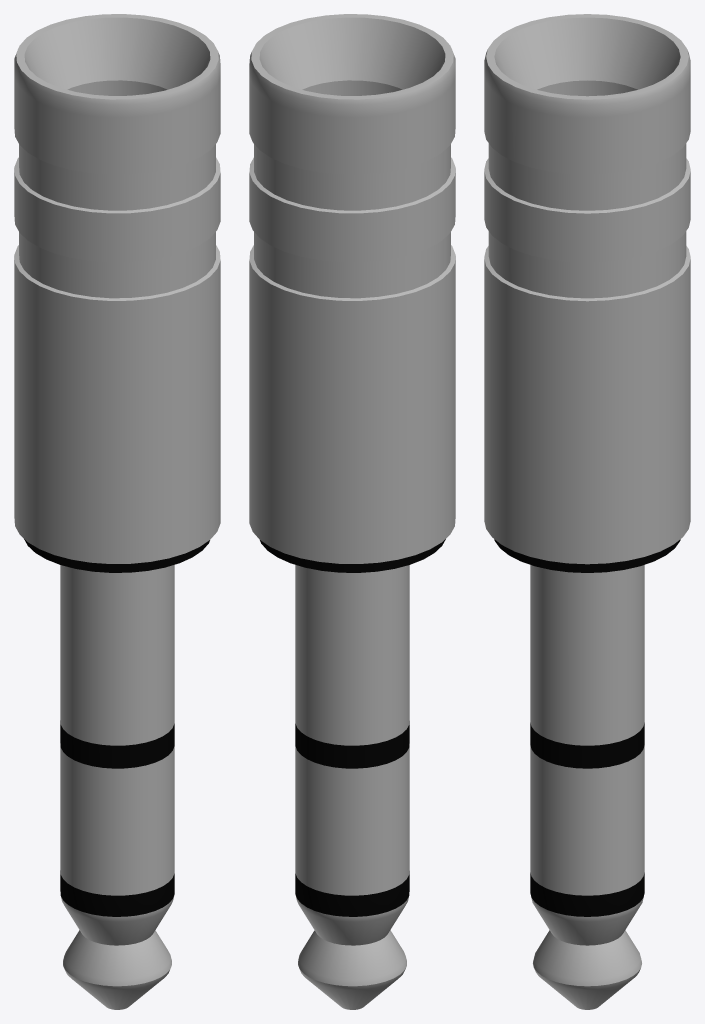
Rendered from plug.glb.
3 views of the same model, side by side, from view 1: azimuth 30°, elevation 25°; view 2: azimuth 150°, elevation 25°; view 3: azimuth 270°, elevation 25° (orthographic).
Visible parts, largest first — view 1: plug; view 2: plug; view 3: plug.
Part boxes in pixels (x1,y1,x2,y2): plug: (14, 14, 220, 1009); plug: (249, 14, 455, 1009); plug: (484, 14, 690, 1009).
Bounding box in the file's own units: 0.0131 × 0.0663 × 0.0131.
Materials: 1 (1 with a texture image).
